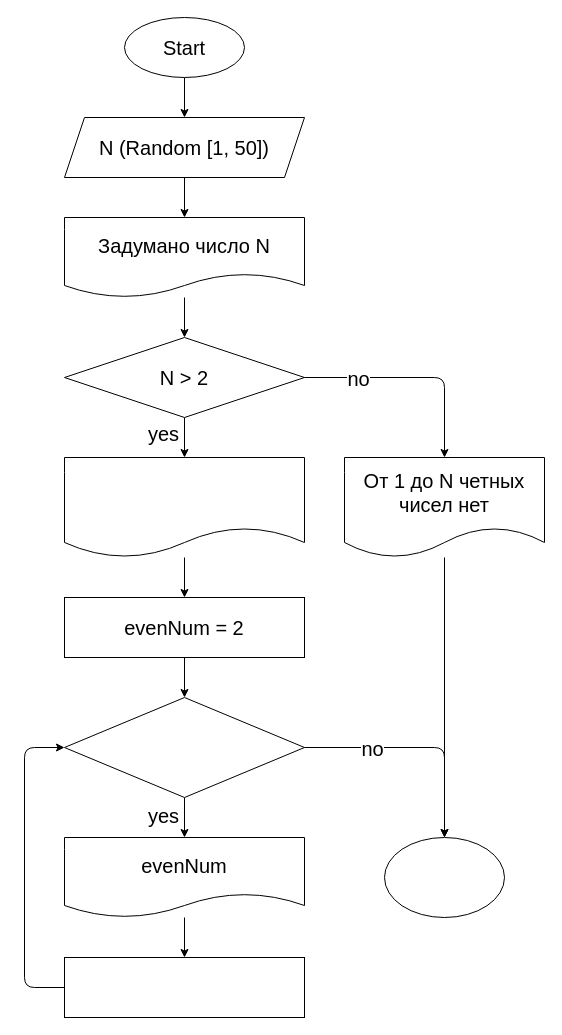
The diagram is 562 pixels wide and 1035 high, and some of its shapes have lost their labels. Here are the shapes that lost their labels. From the top down, the centre of each, then its label:
At (184,507): "Список четных чисел от 1 до N".
At (184,747): "evenNum < N".
At (444,877): "End".
At (184,987): "evenNum = evenNum + 2".
